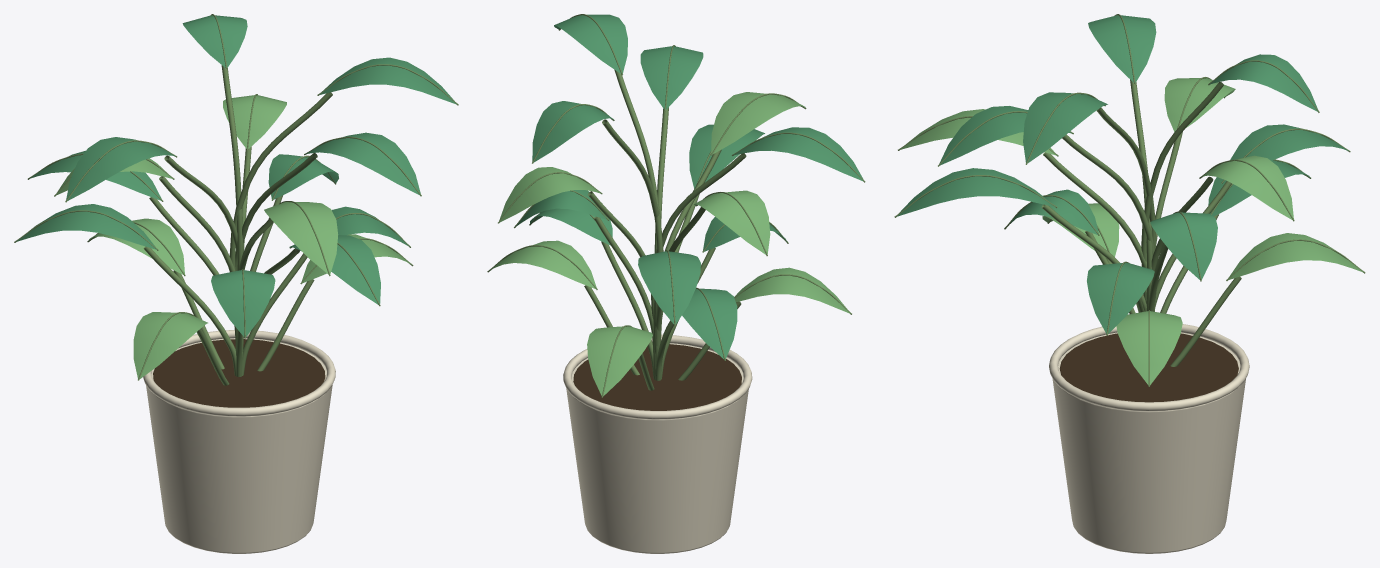
File: plant.glb
3 renders of one model, left to right at view 1: azimuth 30°, elevation 25°; view 2: azimuth 150°, elevation 25°; view 3: azimuth 270°, elevation 25°, orthographic. The views are drawn at different scales.
Visible parts, largest first — view 1: PlantRoot.PotIvory, PlantRoot.PlantLeaf, PlantRoot.PlantStem, PlantRoot.PlantLeafLight, PlantRoot.Soil; view 2: PlantRoot.PotIvory, PlantRoot.PlantLeaf, PlantRoot.PlantLeafLight, PlantRoot.PlantStem, PlantRoot.Soil; view 3: PlantRoot.PotIvory, PlantRoot.PlantLeaf, PlantRoot.PlantLeafLight, PlantRoot.PlantStem, PlantRoot.Soil.
Boxes of the visible parts, <box> form: PlantRoot.PotIvory: <box>143,330,335,553</box>; PlantRoot.PlantLeaf: <box>16,15,456,336</box>; PlantRoot.PlantStem: <box>14,14,458,385</box>; PlantRoot.PlantLeafLight: <box>55,95,411,379</box>; PlantRoot.Soil: <box>153,339,325,407</box>; PlantRoot.PotIvory: <box>563,334,752,553</box>; PlantRoot.PlantLeaf: <box>515,14,863,358</box>; PlantRoot.PlantLeafLight: <box>489,92,850,395</box>; PlantRoot.PlantStem: <box>487,14,865,397</box>; PlantRoot.Soil: <box>573,344,741,410</box>; PlantRoot.PotIvory: <box>1049,324,1249,553</box>; PlantRoot.PlantLeaf: <box>896,15,1348,333</box>; PlantRoot.PlantLeafLight: <box>900,78,1363,385</box>; PlantRoot.PlantStem: <box>894,14,1365,386</box>; PlantRoot.Soil: <box>1059,333,1238,402</box>.
Size of the model in its own units: 1.14 by 1.37 by 1.22.
